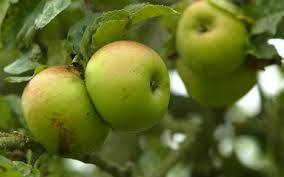apple: (93, 42, 175, 131), (176, 3, 249, 72)
damaged_apple: (24, 63, 109, 153)
